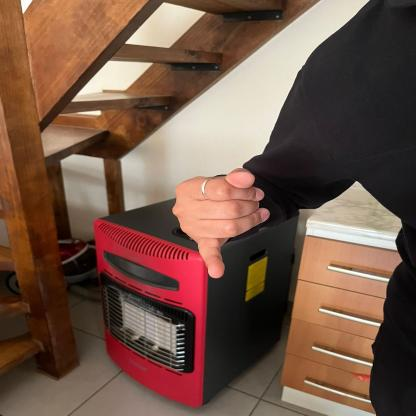Z: (167, 166, 274, 282)
